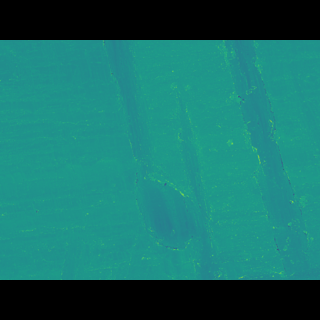Loch: (0, 70, 246, 250), (207, 70, 319, 249)
